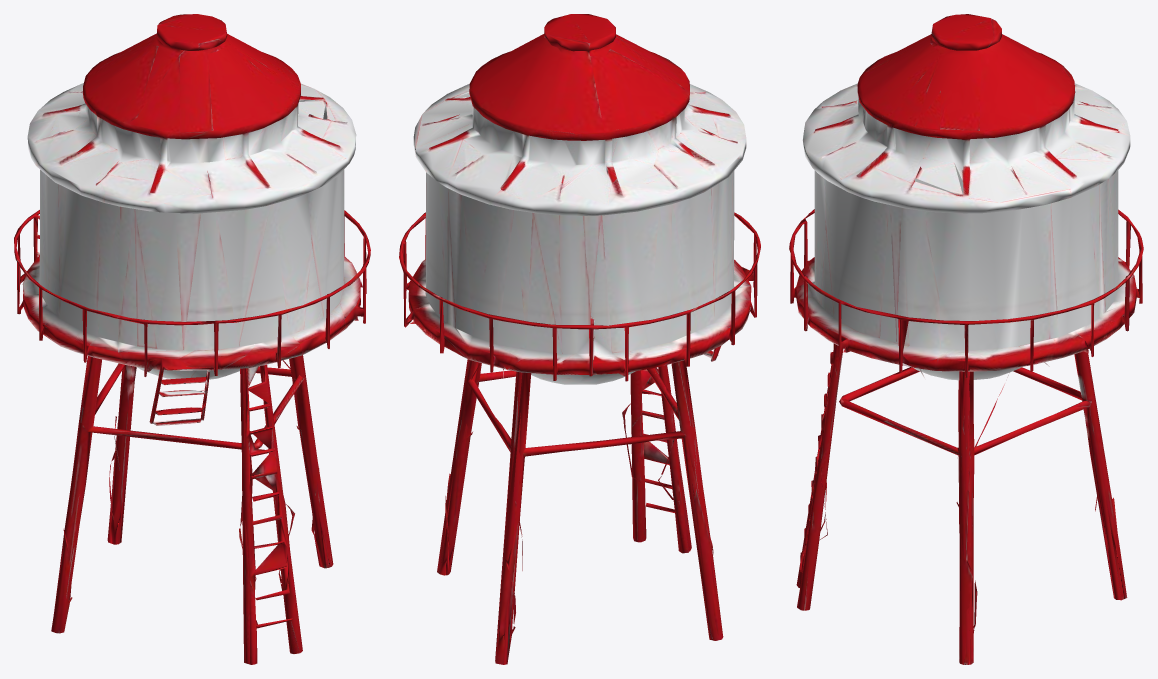
The model's file is water-tower-512.glb.
The picture shows the model from 3 angles, left to right: view 1: azimuth 30°, elevation 25°; view 2: azimuth 150°, elevation 25°; view 3: azimuth 270°, elevation 25°; orthographic projection.
Bounding box in the file's own units: 1.07 × 1.9 × 1.07.
Materials: 1 (1 with a texture image).
